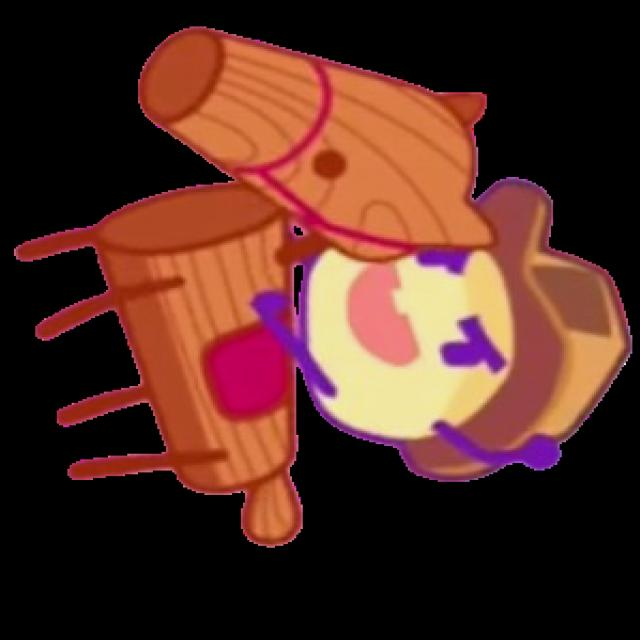qiu: (13, 24, 633, 550)
